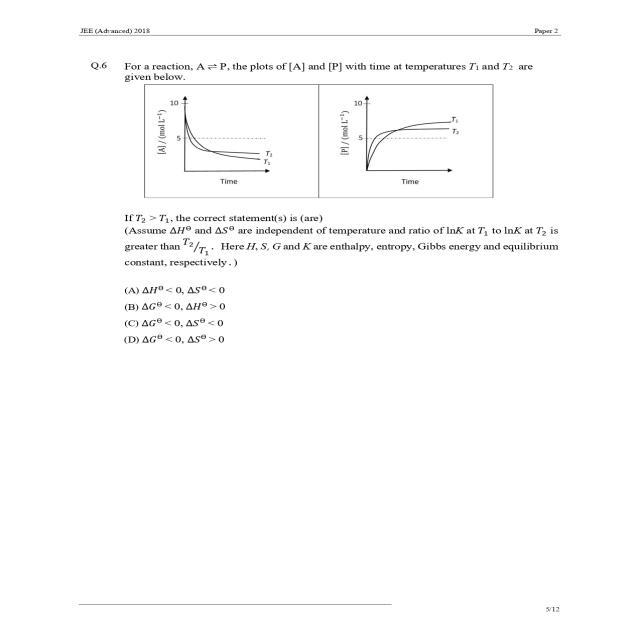Answer_Block: (73, 277, 617, 460)
Question_Answer_Block: (73, 47, 617, 460)
Question_Block: (73, 46, 617, 272)
Question_Paper_Area: (73, 47, 617, 460)
